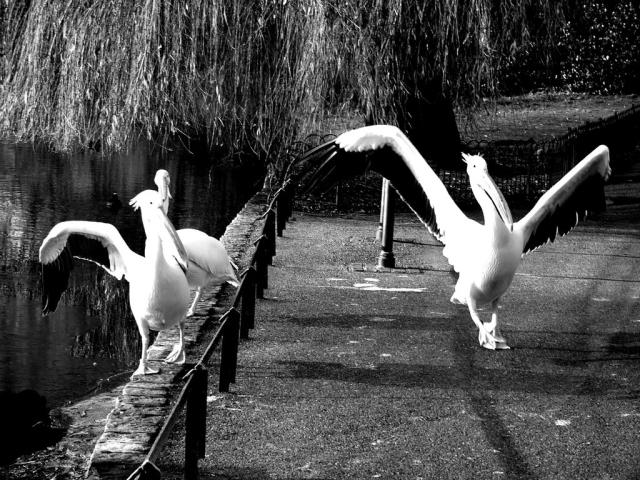Bird: (295, 122, 604, 346), (41, 188, 188, 376), (155, 168, 241, 319)
